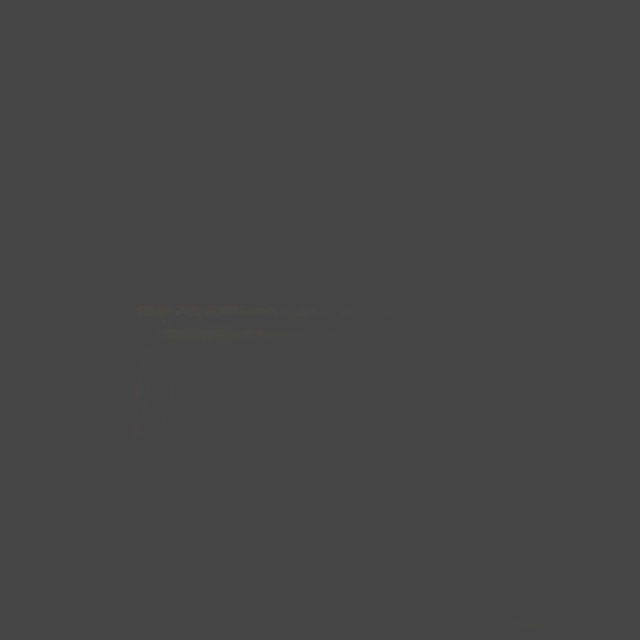95C: (150, 360, 225, 425)
bleach: (208, 366, 262, 425)
drip_dry: (339, 372, 402, 434)
drip_dry_in_shade: (385, 373, 451, 438)
dry_clean: (251, 371, 307, 426)
dry_clean_petrol_only: (295, 366, 355, 431)
